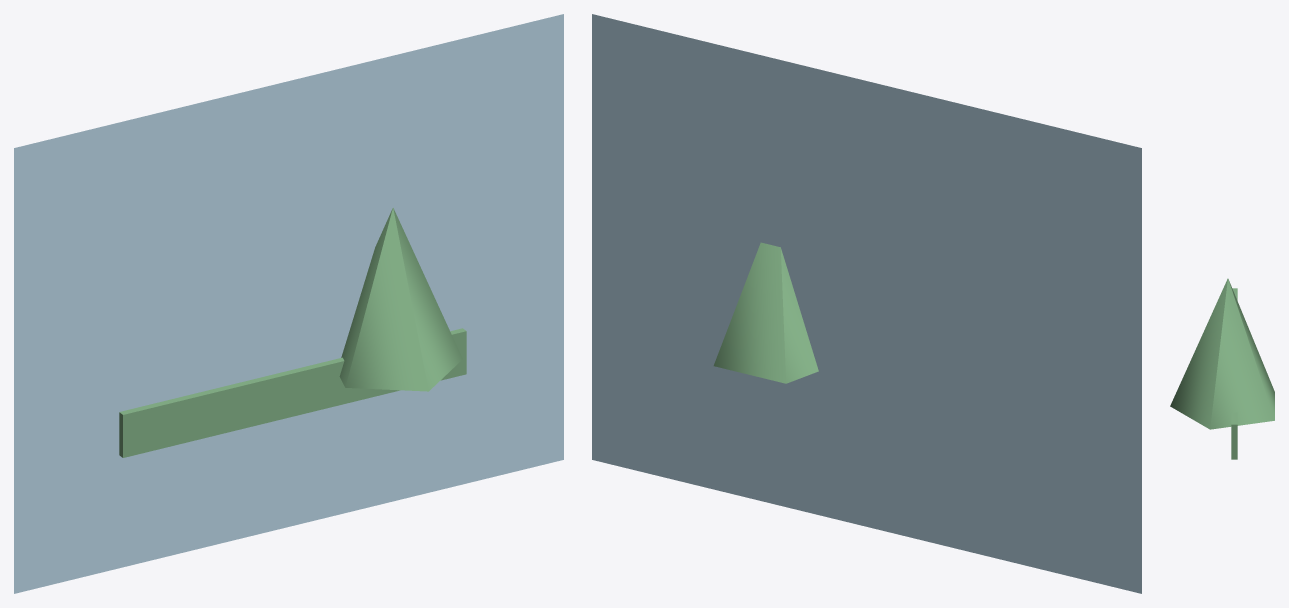
Rendered from canvas-setting-island.gltf.
The picture shows the model from 3 angles, left to right: view 1: azimuth 30°, elevation 25°; view 2: azimuth 150°, elevation 25°; view 3: azimuth 270°, elevation 25°; orthographic projection. The views are drawn at different scales.
Visible parts, largest first — view 1: Sky, Tree, Land; view 2: Sky, Tree; view 3: Tree, Land.
Boxes of the visible parts, box(x1,y1,x2,y2) form: Sky: box(14, 14, 563, 593); Tree: box(339, 207, 462, 391); Land: box(119, 328, 466, 457); Sky: box(592, 14, 1141, 593); Tree: box(713, 242, 818, 383); Tree: box(1170, 278, 1274, 429); Land: box(1231, 288, 1237, 459).
Bounding box in the file's own units: 0.8 × 0.62 × 0.1628.
